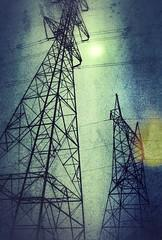power_tower: (0, 0, 91, 240), (104, 92, 153, 240)
